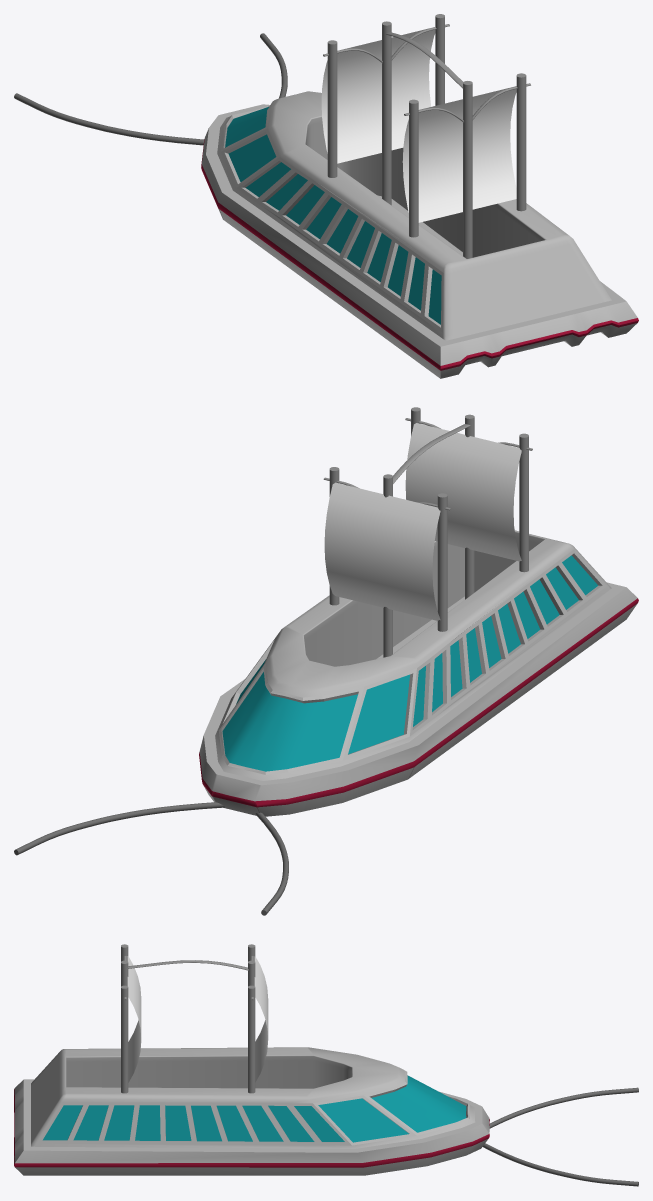
File: GRD_Bateau.fbx
The picture shows the model from 3 angles, top to bottom: view 1: azimuth 30°, elevation 25°; view 2: azimuth 150°, elevation 25°; view 3: azimuth 270°, elevation 25°; orthographic projection. The views are drawn at different scales.
Parts seen in each view (by area): view 1: Box002; view 2: Box002; view 3: Box002.
Part boxes in pixels (x1,y1,x2,y2): Box002: (14,14,638,378); Box002: (14,407,638,915); Box002: (14,944,638,1186).
Bounding box in the file's own units: 1336 × 1160 × 3671.
